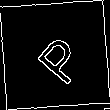P_NW: (24, 24, 86, 86)
